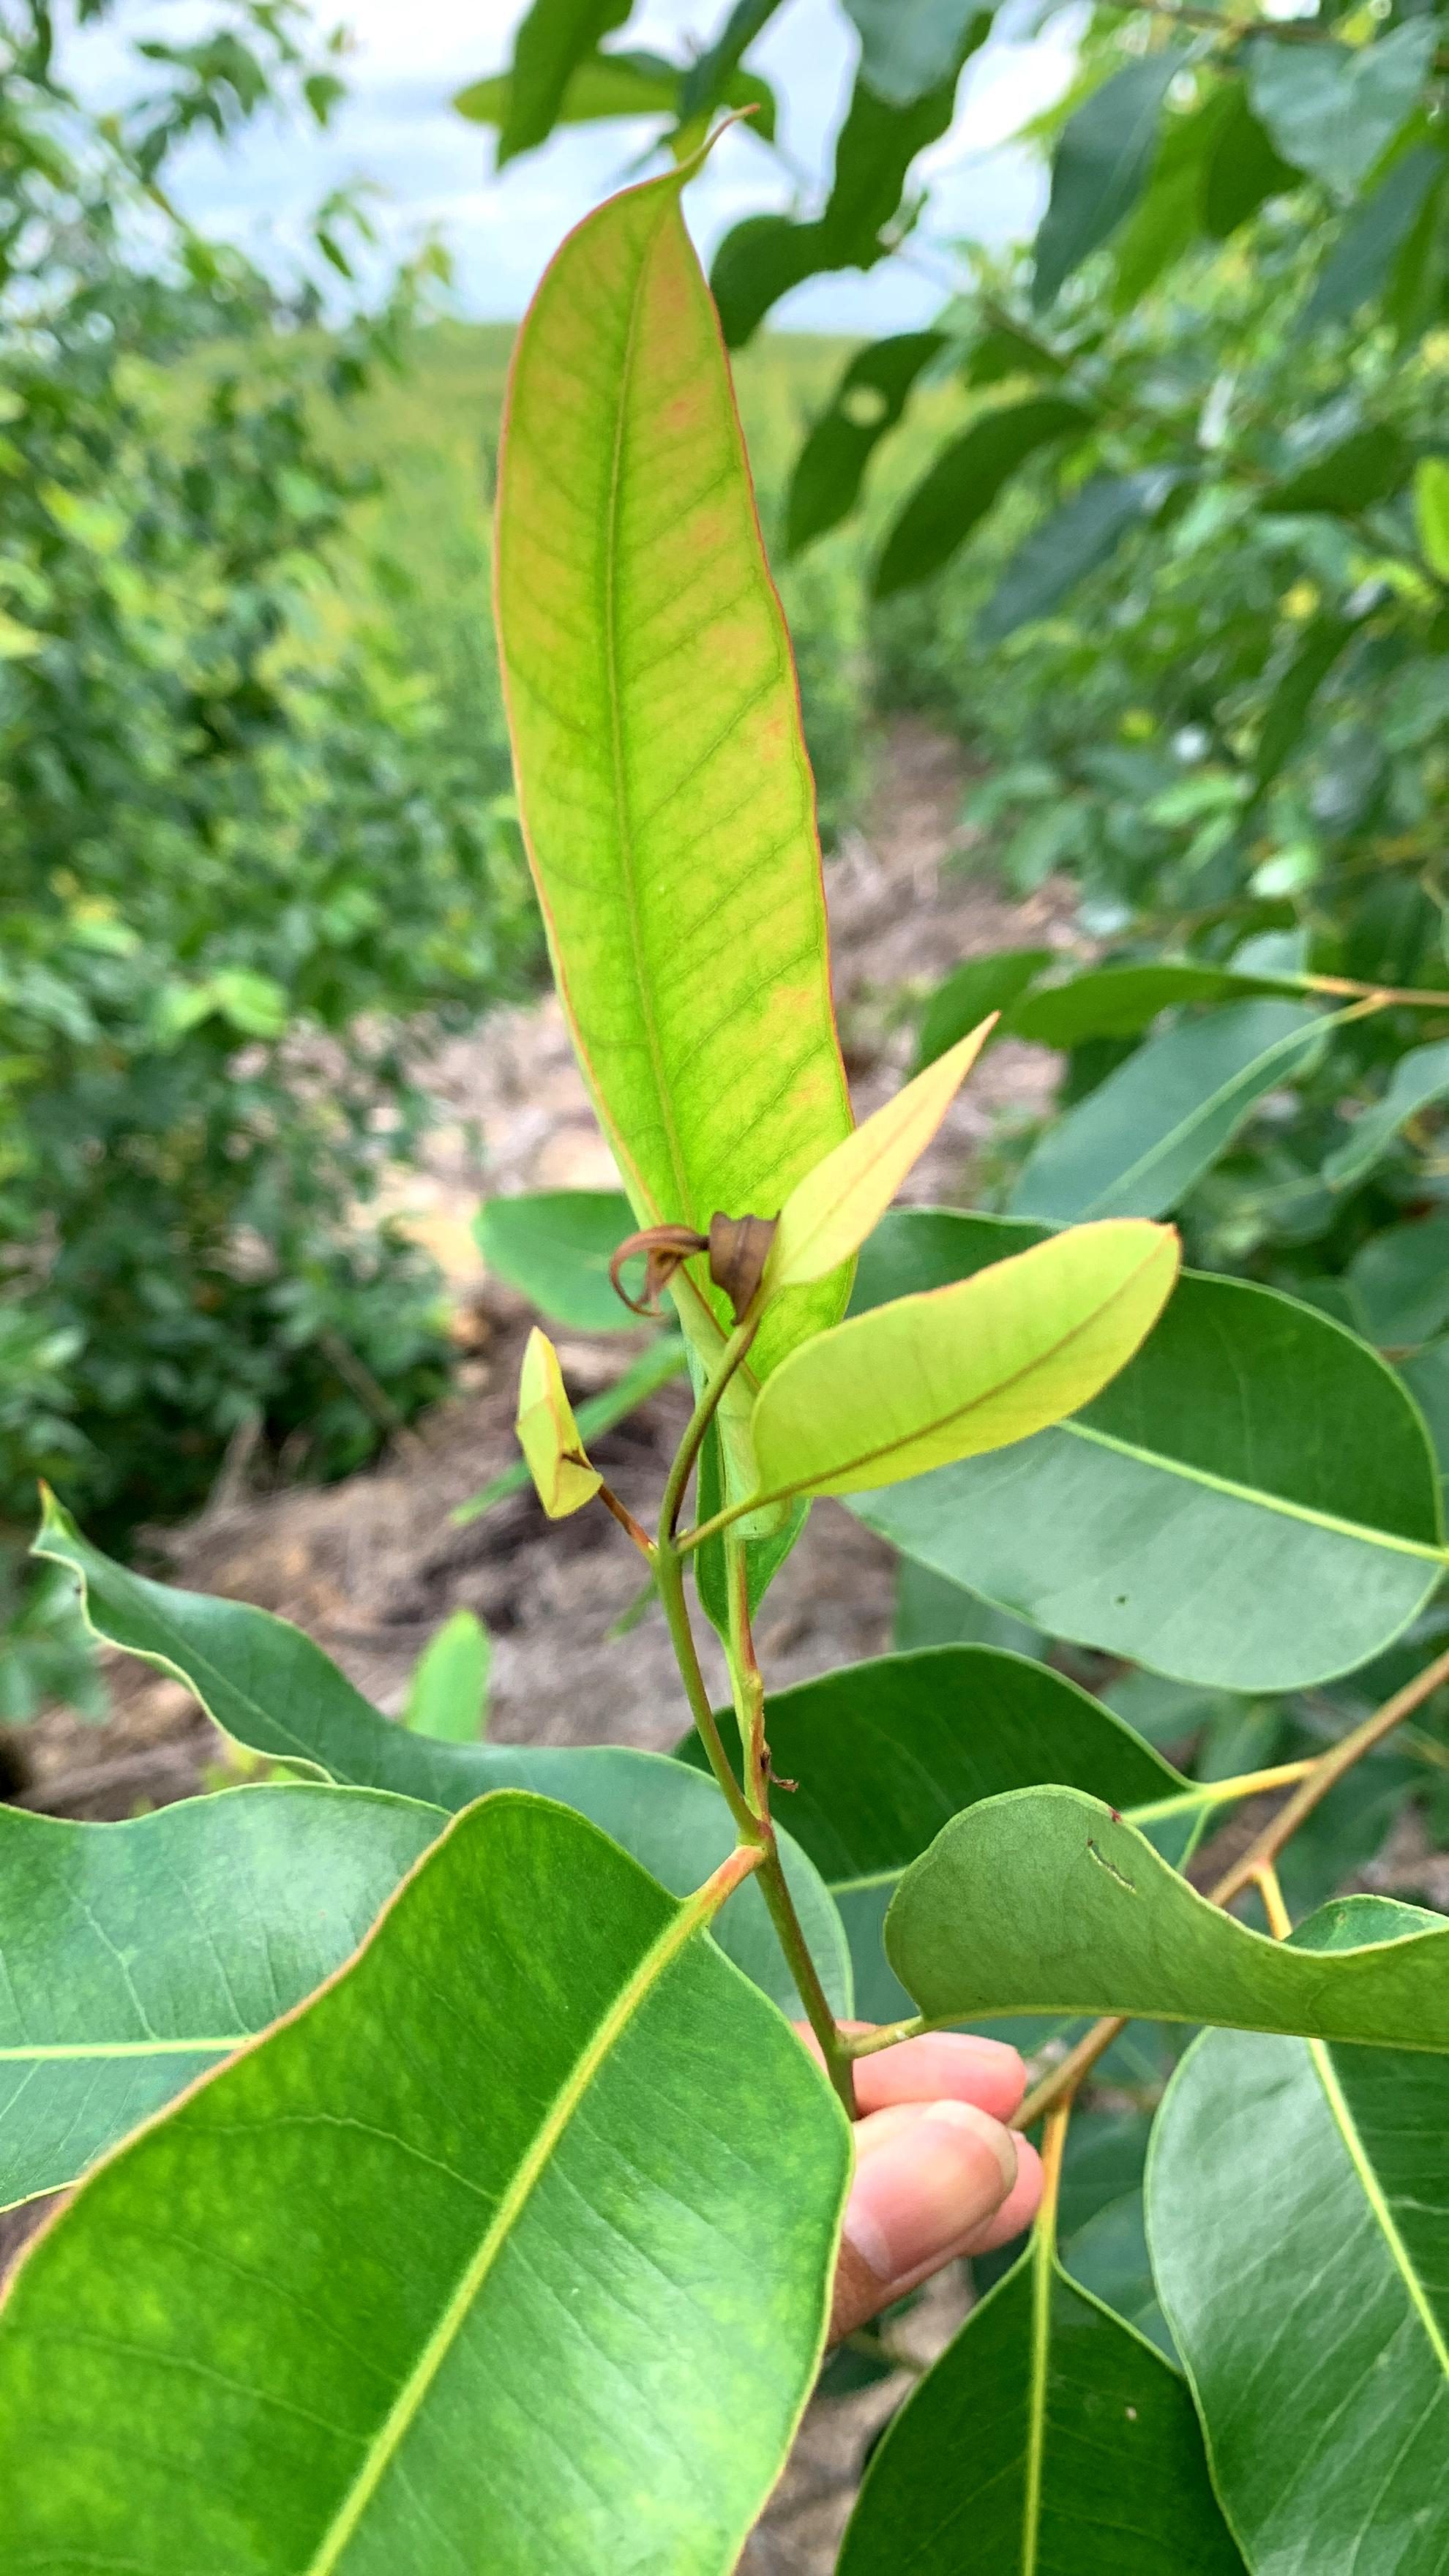Helopeltis-Withered Sprout: (589, 1182, 794, 1346)
